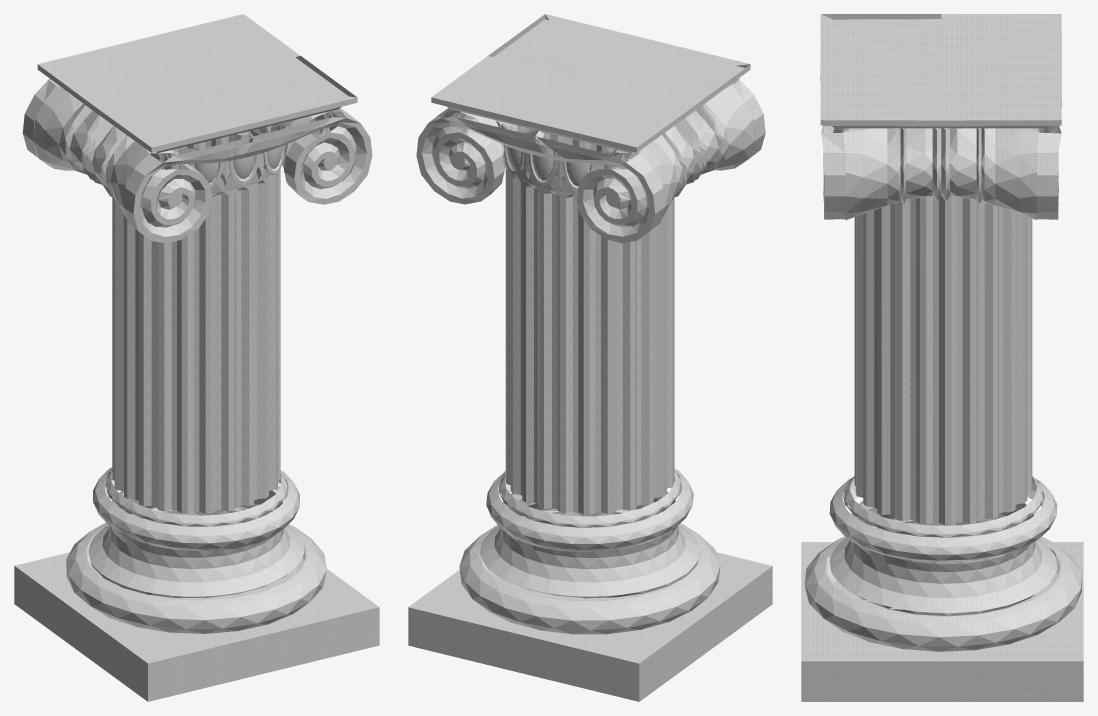
The model's file is universe.obj.
3 renders of one model, left to right at view 1: azimuth 30°, elevation 25°; view 2: azimuth 150°, elevation 25°; view 3: azimuth 270°, elevation 25°, orthographic. The views are drawn at different scales.
Visible parts, largest first — view 1: Layer_0; view 2: Layer_0; view 3: Layer_0.
Boxes of the visible parts, x1=… form: Layer_0: x1=14, y1=14, x2=379, y2=701; Layer_0: x1=408, y1=14, x2=772, y2=701; Layer_0: x1=801, y1=14, x2=1083, y2=701.
Bounding box in the file's own units: 2.33 × 5.07 × 2.25.
